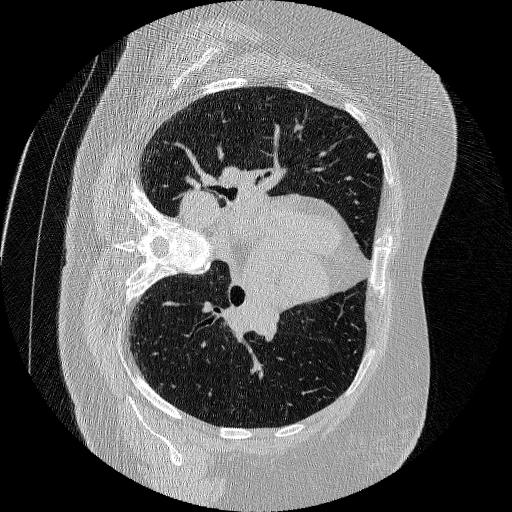nodule: (366, 151, 379, 164)
